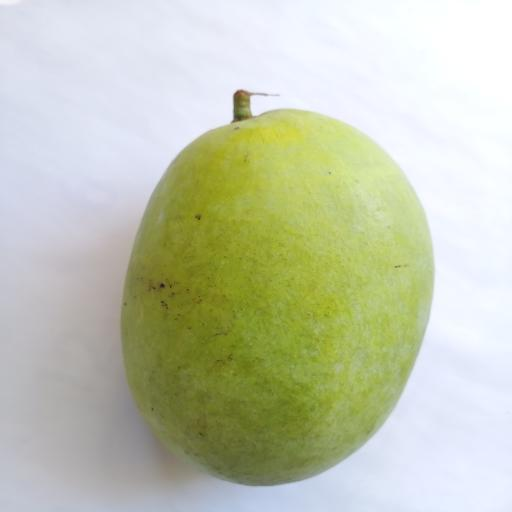mango-unripe: (109, 64, 441, 498)
